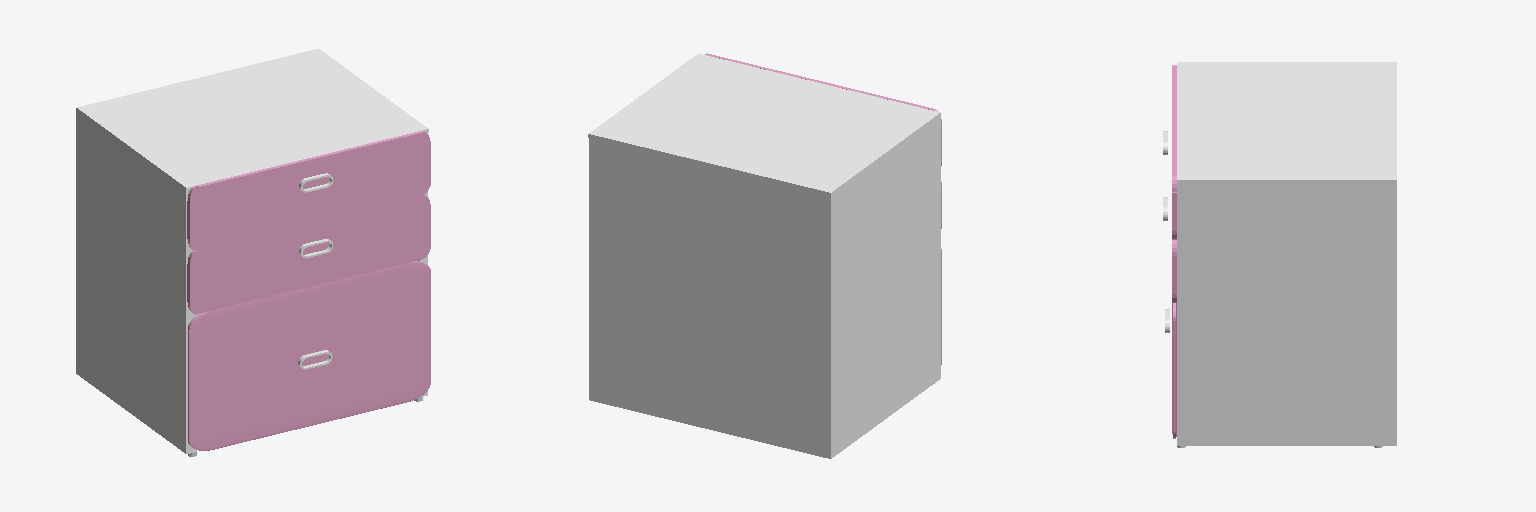
File: StorageFurniture_StuvaFritidsChestPink.obj
3 views of the same model, side by side, from view 1: azimuth 30°, elevation 25°; view 2: azimuth 150°, elevation 25°; view 3: azimuth 270°, elevation 25° (orthographic).
Parts seen in each view (by area): view 1: obj_0; view 2: obj_0; view 3: obj_0.
Part boxes in pixels (x1,y1,x2,y2): obj_0: (76, 49, 430, 456); obj_0: (588, 53, 941, 458); obj_0: (1163, 62, 1396, 447).
Size of the model in its own units: 60 by 64 by 50.